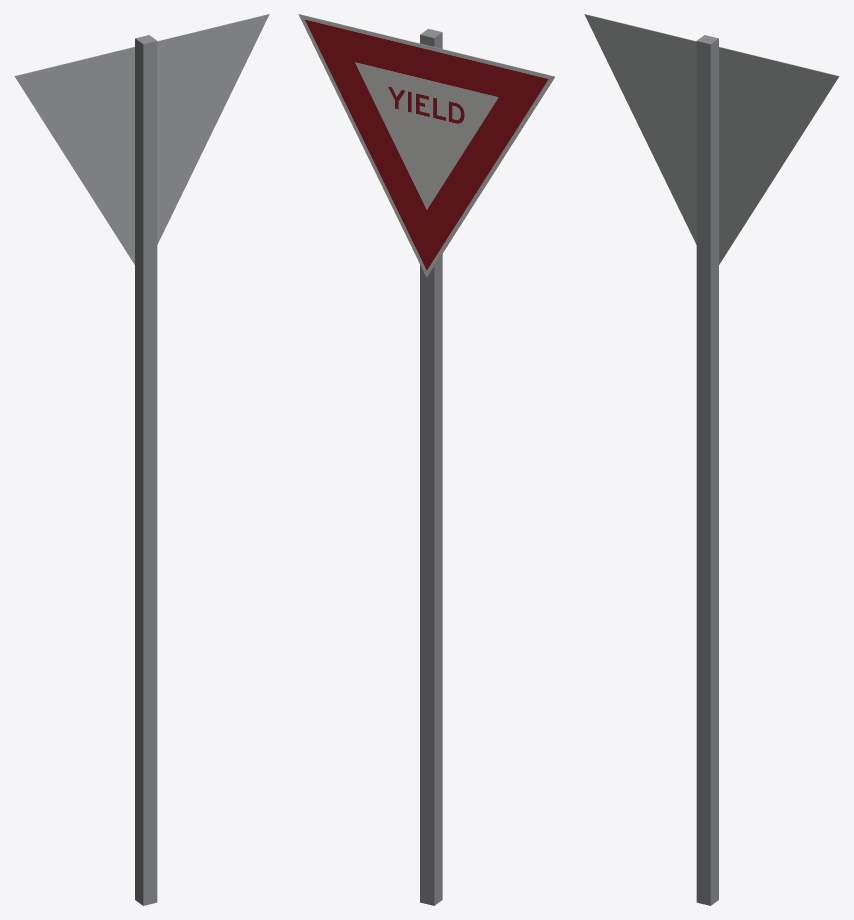
Rendered from sign_r1-2_yield.glb.
3 renders of one model, left to right at view 1: azimuth 30°, elevation 25°; view 2: azimuth 150°, elevation 25°; view 3: azimuth 330°, elevation 25°, orthographic.
Visible parts, largest first — view 1: sign_r1-2_yield; view 2: sign_r1-2_yield; view 3: sign_r1-2_yield.
Boxes of the visible parts, x1,y1,x2,y2 form: sign_r1-2_yield: (14, 14, 269, 905); sign_r1-2_yield: (298, 14, 554, 905); sign_r1-2_yield: (584, 14, 839, 905).
Size of the model in its own units: 0.9144 by 2.96 by 0.0538.
Materials: 3 (1 with a texture image).
